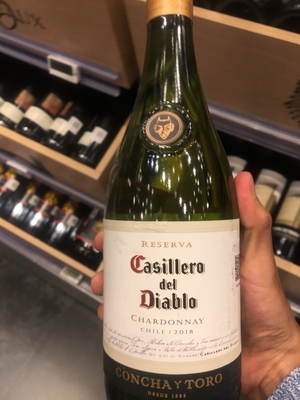casillero del diablo chardonnay: (90, 14, 253, 400)
